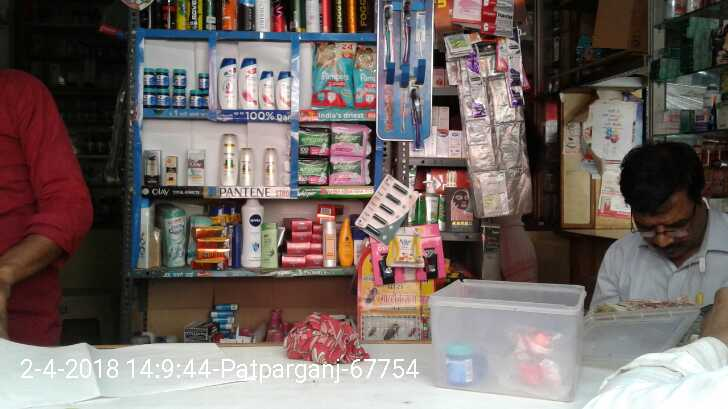vicks: (173, 89, 186, 109), (173, 69, 186, 89), (144, 88, 156, 108), (189, 89, 202, 107), (157, 86, 168, 106), (144, 68, 155, 88), (157, 68, 168, 86), (199, 73, 210, 87)
